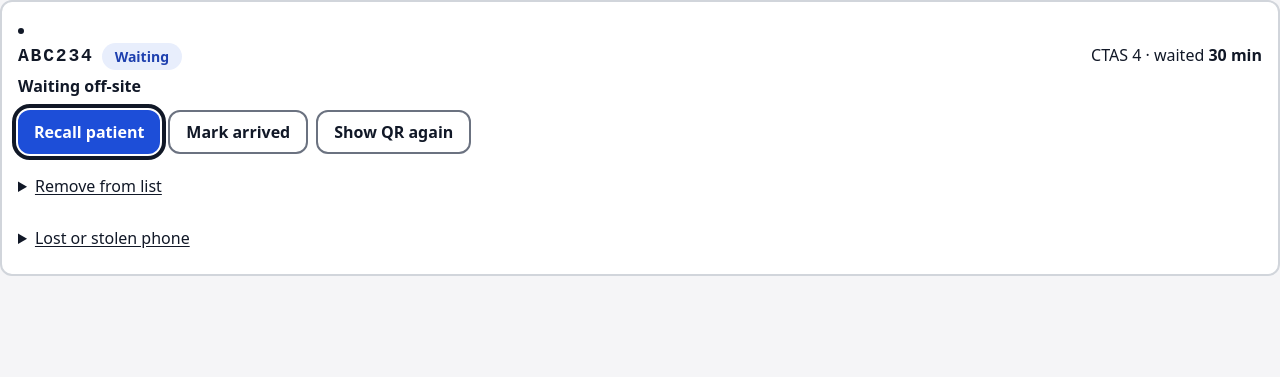
Test case: VisitRow recall › after Yes and a failed save, shows the not-saved note and keeps the progress line out of focus
The width and height of the screenshot is (1280, 377).
Click the button "Recall patient" at (89, 132), box top-left (18, 110), bottom-right (160, 154)
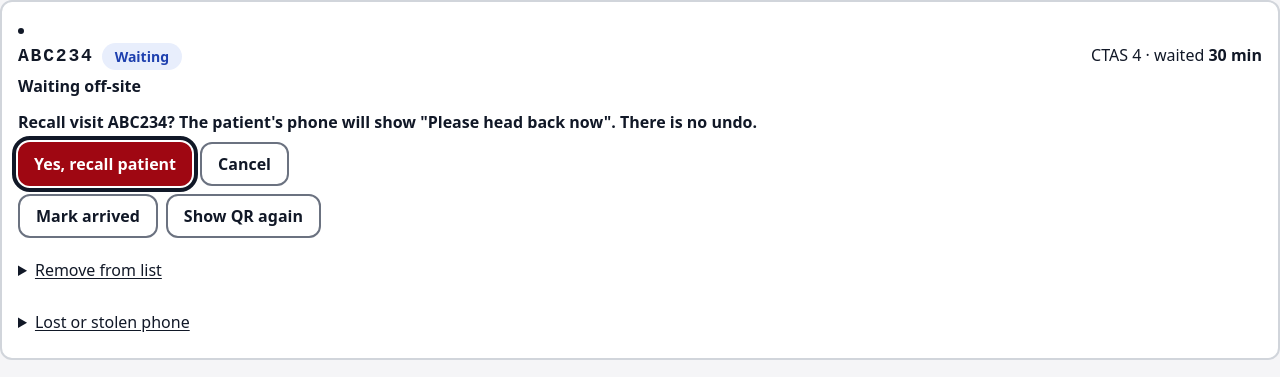
Click the button "Yes, recall patient" at (105, 164), box top-left (18, 142), bottom-right (192, 186)
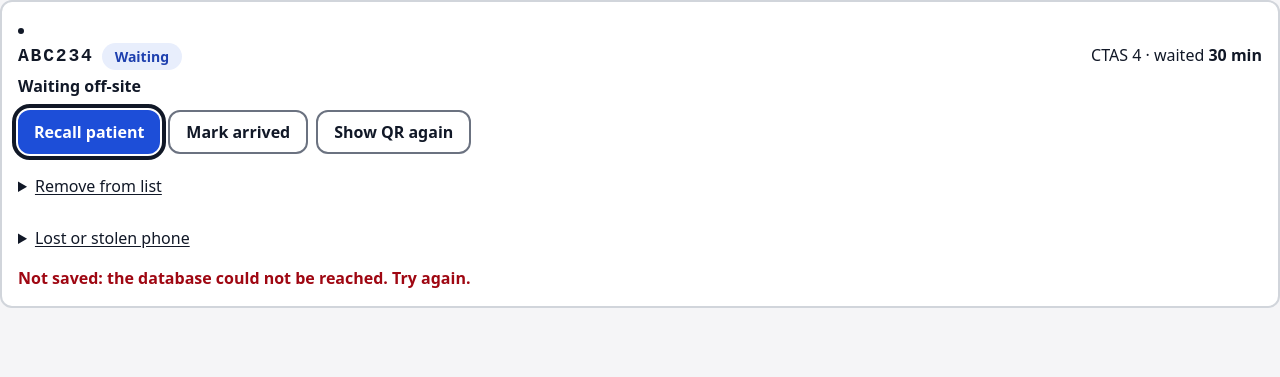
Now the text "Not saved" is shown, box top-left (18, 267), bottom-right (470, 289)
